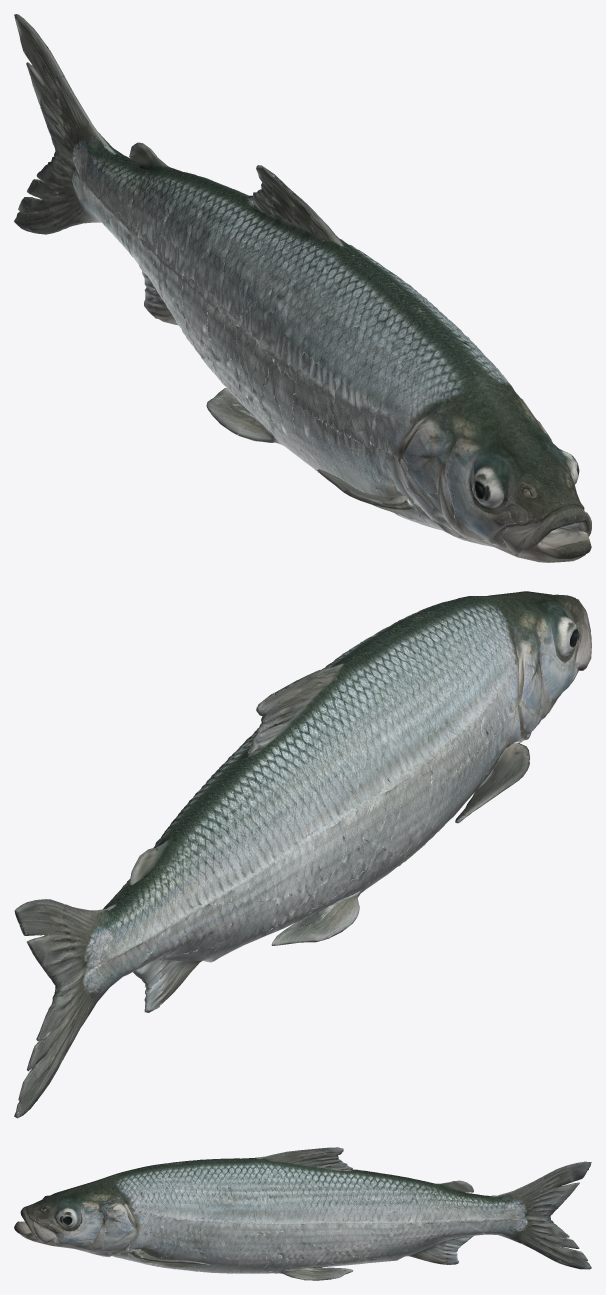
File: sielawa.glb
3 renders of one model, top to bottom at view 1: azimuth 30°, elevation 25°; view 2: azimuth 150°, elevation 25°; view 3: azimuth 270°, elevation 25°, orthographic. The views are drawn at different scales.
Visible parts, largest first — view 1: Mesh_0; view 2: Mesh_0; view 3: Mesh_0.
Boxes of the visible parts, left/top/right/bottom form: Mesh_0: left=14, top=14, right=591, bottom=562; Mesh_0: left=14, top=591, right=591, bottom=1118; Mesh_0: left=14, top=1147, right=591, bottom=1280.
Size of the model in its own units: 0.3417 by 0.446 by 1.9.
Materials: 1 (1 with a texture image).
